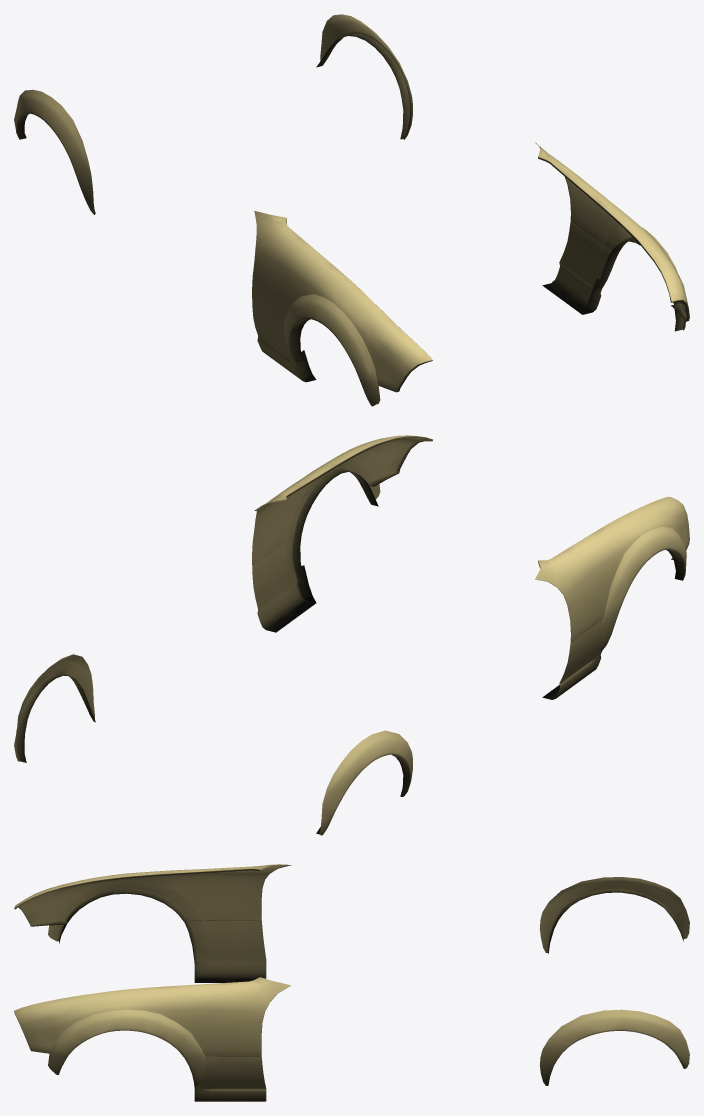
The model's file is MX5_Fender04_Duco.fbx.
3 renders of one model, top to bottom at view 1: azimuth 30°, elevation 25°; view 2: azimuth 150°, elevation 25°; view 3: azimuth 270°, elevation 25°, orthographic. The views are drawn at different scales.
Visible parts, largest first — view 1: MX5_Fender04_Duco; view 2: MX5_Fender04_Duco; view 3: MX5_Fender04_Duco.
Boxes of the visible parts, <box> form: MX5_Fender04_Duco: <box>14,14,689,406</box>; MX5_Fender04_Duco: <box>14,435,689,835</box>; MX5_Fender04_Duco: <box>14,864,689,1101</box>.
Size of the model in its own units: 165 by 63.12 by 330.
